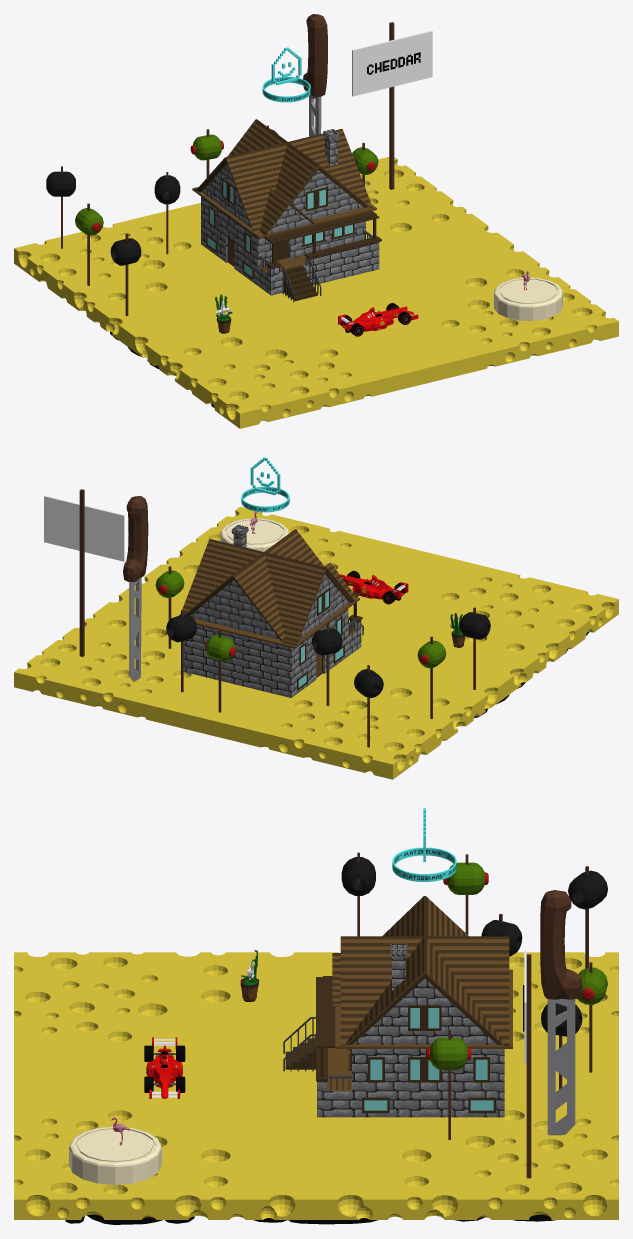
The picture shows the model from 3 angles, top to bottom: view 1: azimuth 30°, elevation 25°; view 2: azimuth 150°, elevation 25°; view 3: azimuth 270°, elevation 25°; orthographic projection. The views are drawn at different scales.
Parts seen in each view (by area): view 1: Cube.022, Cube.586, Cube.023, Cylinder.016, Cube.024, VEHICLES_FORMULA_1, TYPE_PREMIUM, Sphere.017, Sphere.016, Sphere.020, Sphere.018, Sphere.022 (+1 smaller); view 2: Cube.022, Cube.586, Cube.023, Cube.024, Cylinder.016, VEHICLES_FORMULA_1, TYPE_PREMIUM, Sphere.020, Sphere.022, Sphere.017, Sphere.021, Sphere.016 (+2 smaller); view 3: Cube.022, Cube.586, Cube.024, Cylinder.016, VEHICLES_FORMULA_1, Cube.023, Sphere.019, Sphere.016, Sphere.018, TYPE_PREMIUM, Sphere.017, Curve.014 (+4 smaller).
Part boxes in pixels (x1,y1,x2,y2): Cube.022: (14,157,618,428); Cube.586: (192,119,381,302); Cube.023: (352,22,432,189); Cylinder.016: (494,277,562,320); Cube.024: (303,14,327,136); VEHICLES_FORMULA_1: (338,303,418,336); TYPE_PREMIUM: (262,47,310,102); Sphere.017: (110,233,141,316); Sphere.016: (46,166,75,248); Sphere.020: (154,172,180,254); Sphere.018: (75,203,103,285); Sphere.022: (190,129,223,177); Cube.022: (14,506,618,779); Cube.586: (178,524,363,697); Cube.023: (44,489,124,656); Cube.024: (123,496,148,681); Cylinder.016: (220,518,288,551); VEHICLES_FORMULA_1: (340,570,408,604); TYPE_PREMIUM: (241,457,289,512); Sphere.020: (311,623,342,705); Sphere.022: (205,630,235,712); Sphere.017: (460,607,490,689); Sphere.021: (166,610,196,692); Sphere.016: (354,665,383,747); Cube.022: (14,952,618,1219); Cube.586: (283,896,512,1117); Cube.024: (540,890,582,1135); Cylinder.016: (69,1126,161,1184); VEHICLES_FORMULA_1: (144,1037,185,1098); Cube.023: (523,950,531,1178); Sphere.019: (426,1029,471,1139); Sphere.016: (568,866,607,968); Sphere.018: (443,854,488,934); TYPE_PREMIUM: (392,808,456,881); Sphere.017: (341,852,375,936); Curve.014: (65,1214,555,1224).
Size of the model in its own units: 3917 by 2197 by 4000.
38 materials, 5 textured.
